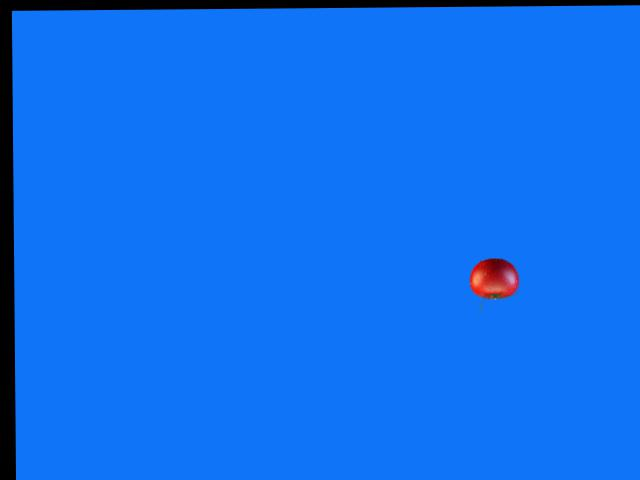tomato: (470, 257, 519, 298)
